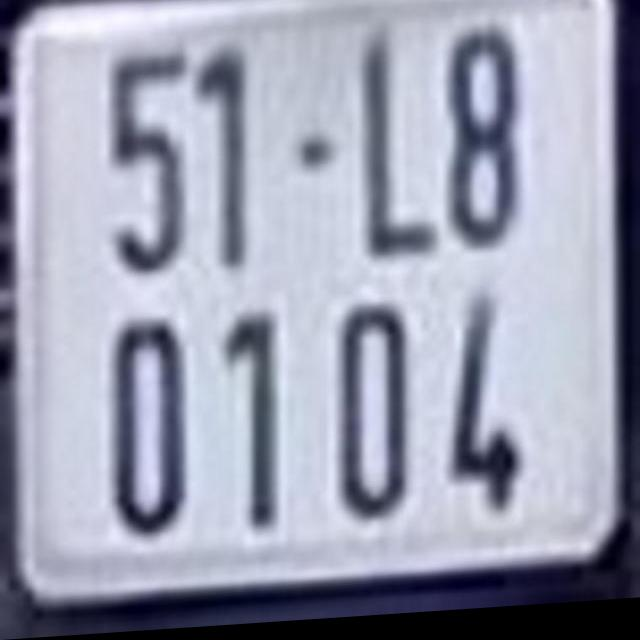0: (114, 318, 193, 536), (338, 307, 406, 526)
1: (220, 309, 294, 535), (197, 49, 261, 273)
4: (456, 293, 528, 522)
5: (108, 50, 193, 275)
8: (450, 30, 520, 257)
L: (357, 27, 443, 270)
